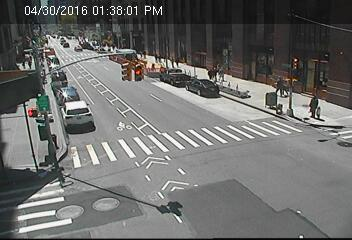neg: (134, 147, 165, 189), (142, 85, 165, 117), (100, 80, 121, 108), (226, 109, 243, 131), (198, 107, 211, 124), (103, 45, 115, 61), (70, 49, 82, 64)
pos: (299, 92, 319, 119), (270, 74, 288, 98), (216, 66, 228, 82), (173, 54, 183, 68), (140, 47, 150, 59), (168, 55, 177, 68), (150, 51, 159, 63)
